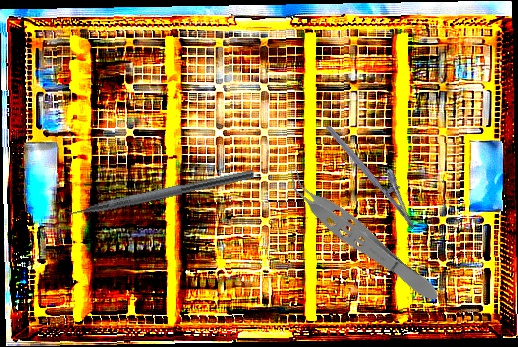Chopper: (50, 156, 255, 225)
Needle Holder: (325, 112, 430, 231)
Tissue Forceps: (274, 161, 448, 311)
